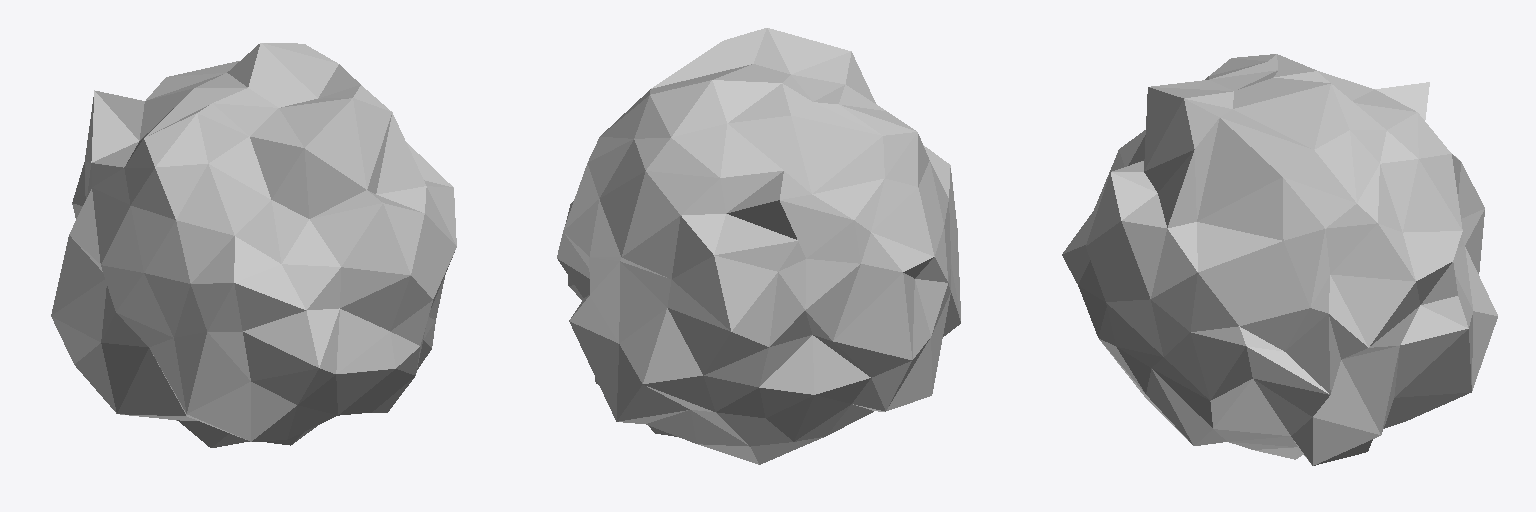
Rendered from fire_000008.obj.
3 renders of one model, left to right at view 1: azimuth 30°, elevation 25°; view 2: azimuth 150°, elevation 25°; view 3: azimuth 270°, elevation 25°, orthographic.
Parts seen in each view (by area): view 1: Icosphere; view 2: Icosphere; view 3: Icosphere.
Boxes of the visible parts, <box> form: Icosphere: <box>51,43,456,447</box>; Icosphere: <box>557,28,960,464</box>; Icosphere: <box>1062,54,1497,465</box>.
Bounding box in the file's own units: 1.53 × 1.57 × 1.66.